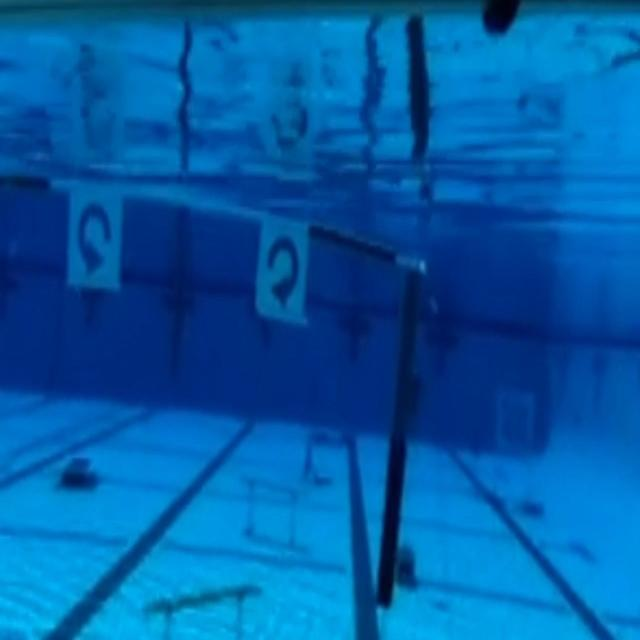Gate: (0, 162, 428, 633)
